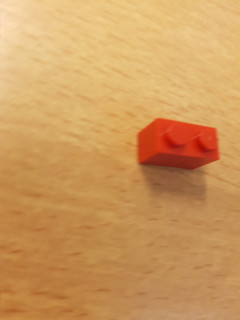1x2 red: (135, 117, 220, 178)
